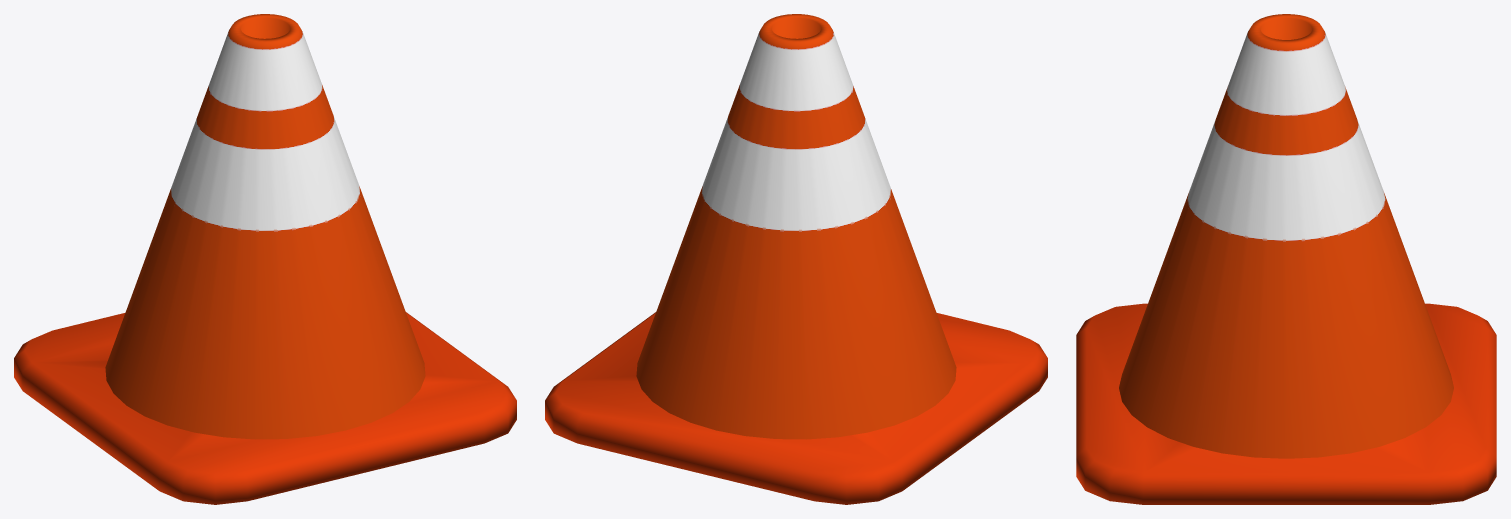
Rendered from Traffic Cone.fbx.
3 renders of one model, left to right at view 1: azimuth 30°, elevation 25°; view 2: azimuth 150°, elevation 25°; view 3: azimuth 270°, elevation 25°, orthographic. The views are drawn at different scales.
Parts seen in each view (by area): view 1: Cone, Cone Base; view 2: Cone, Cone Base; view 3: Cone, Cone Base.
Part boxes in pixels (<box>): Cone: <box>105,14,425,439</box>; Cone Base: <box>14,312,516,504</box>; Cone: <box>636,14,956,439</box>; Cone Base: <box>545,312,1047,504</box>; Cone: <box>1119,14,1453,458</box>; Cone Base: <box>1076,303,1496,504</box>.
Bounding box in the file's own units: 158 × 158 × 161.
